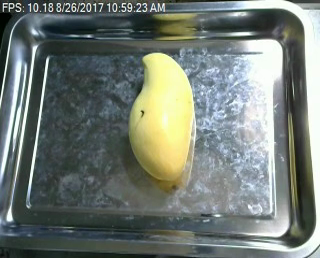Mango: (124, 48, 203, 190)
